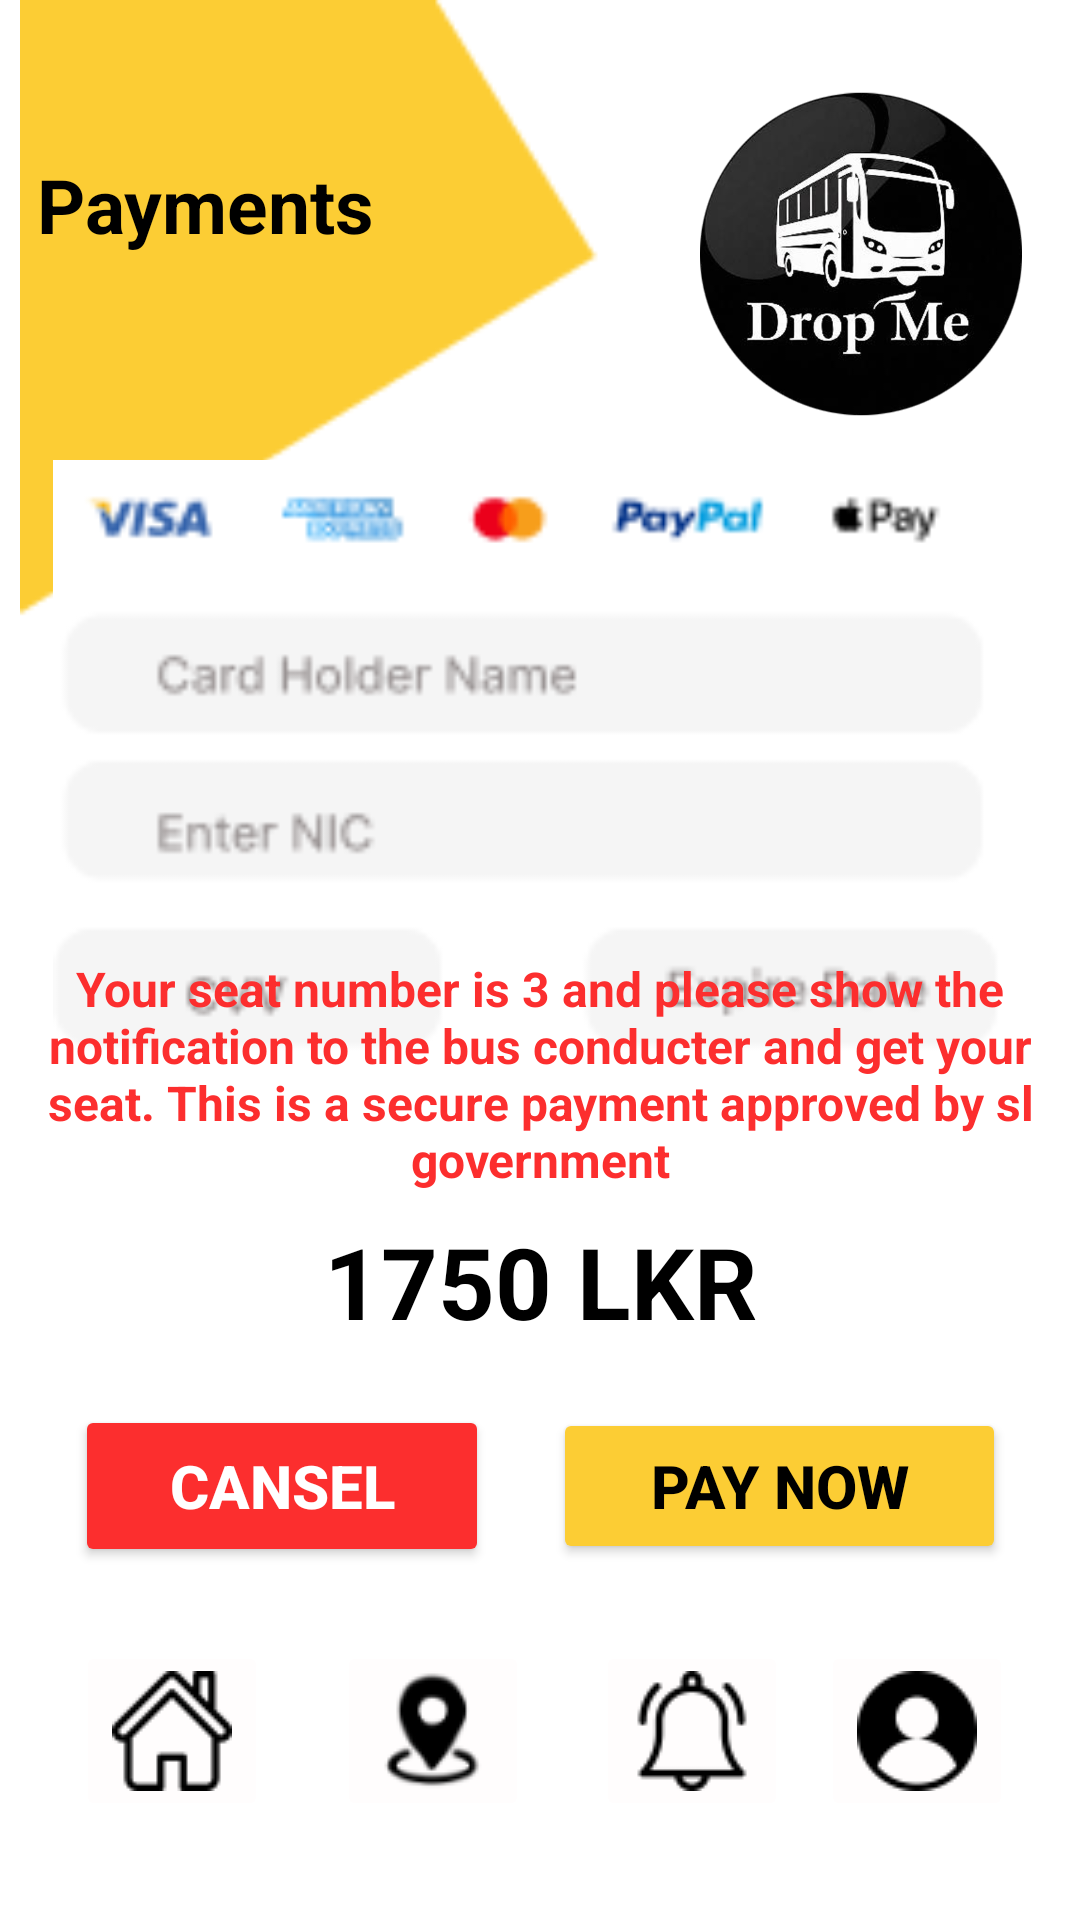

Named icons in this screenshot (1080 × 1920) and their centers, [x,y]:
belb: [692,1731]
homeb: [172,1731]
userb: [917,1731]
